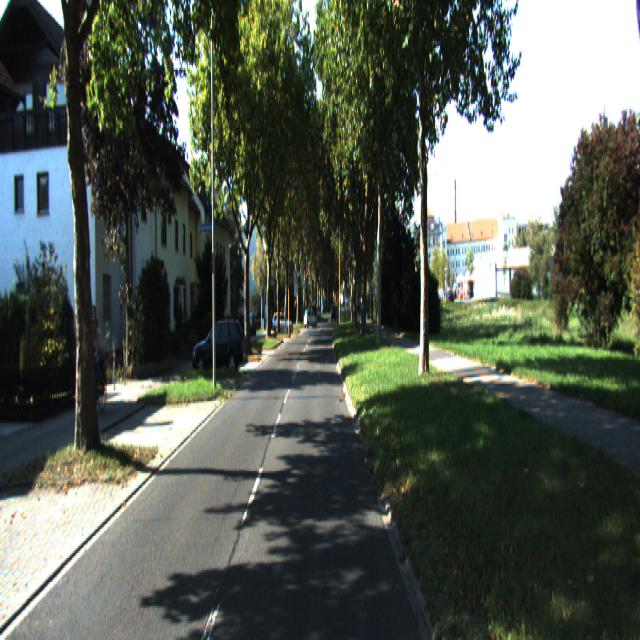Car: (191, 313, 245, 373)
